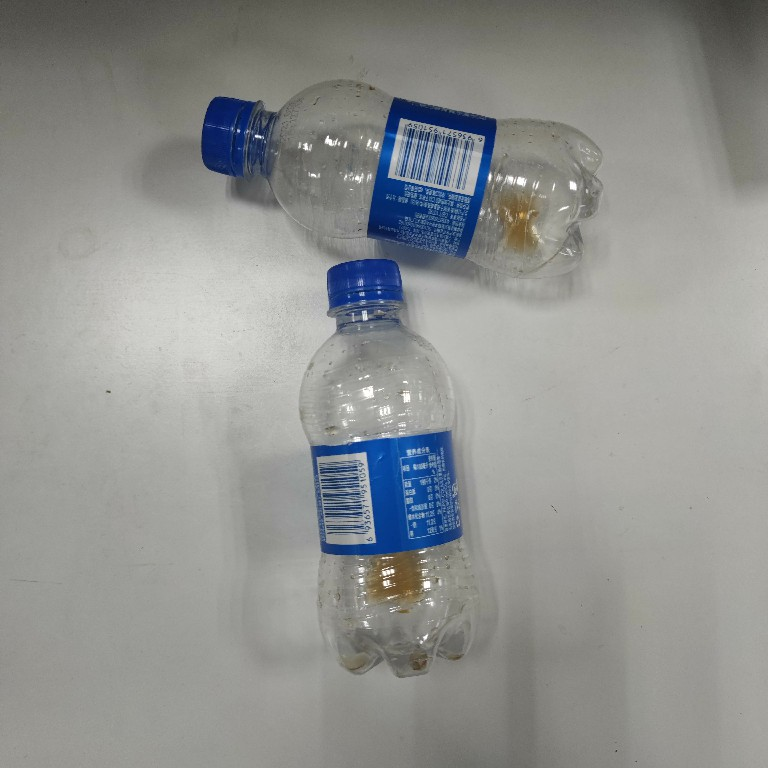bottle: (196, 76, 611, 284), (294, 256, 486, 685)
